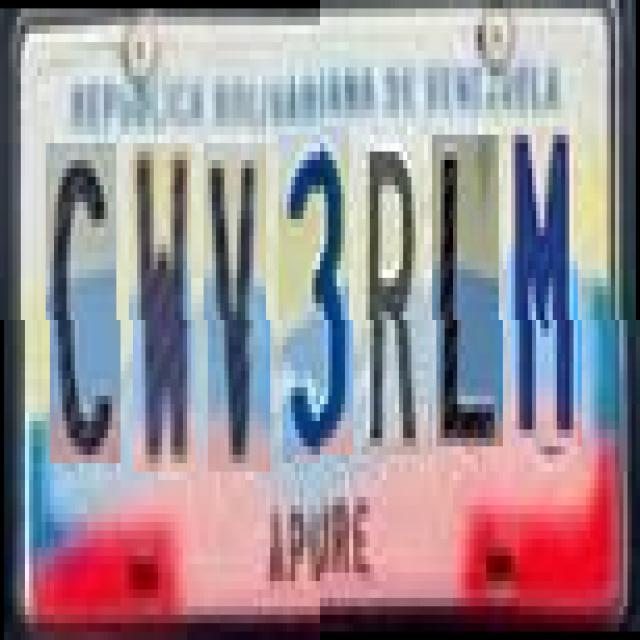3: (282, 134, 354, 463)
C: (50, 143, 120, 463)
L: (436, 143, 503, 454)
M: (511, 134, 582, 454)
R: (362, 143, 428, 463)
V: (208, 143, 270, 472)
W: (132, 143, 195, 472)
